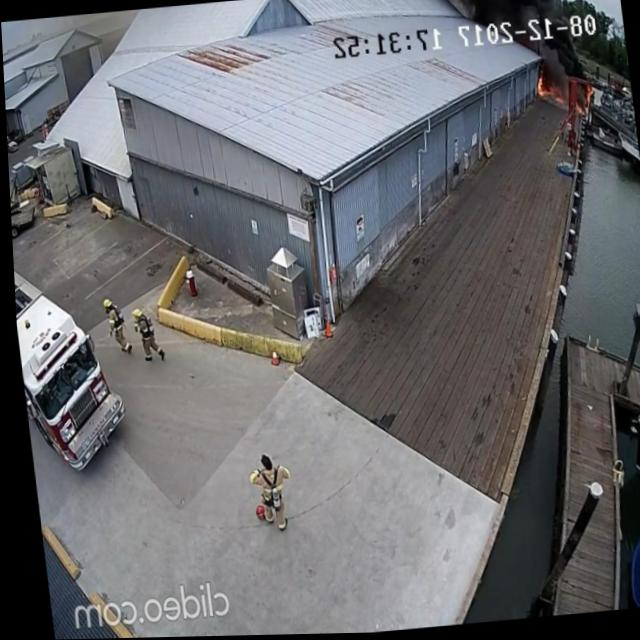fire: (532, 70, 567, 105), (570, 85, 598, 125)
